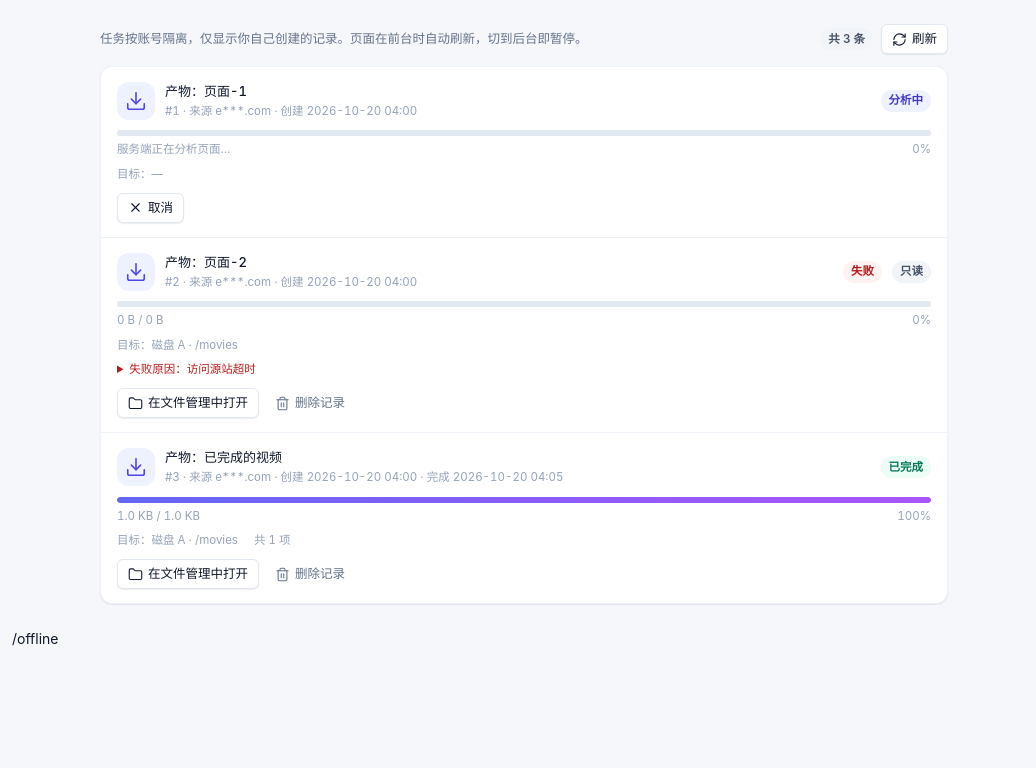
Test: 任务中心：只读与可操作判定 › 成功任务可「在文件管理中打开」，路径映射到磁盘路由 + 目录查询参数
Expected: the text "产物：已完成的视频" is shown, x1=165 y1=449 x2=282 y2=465
Click the button "在文件管理中打开" below "失败原因：" at (188, 403), box x1=117 y1=388 x2=259 y2=418
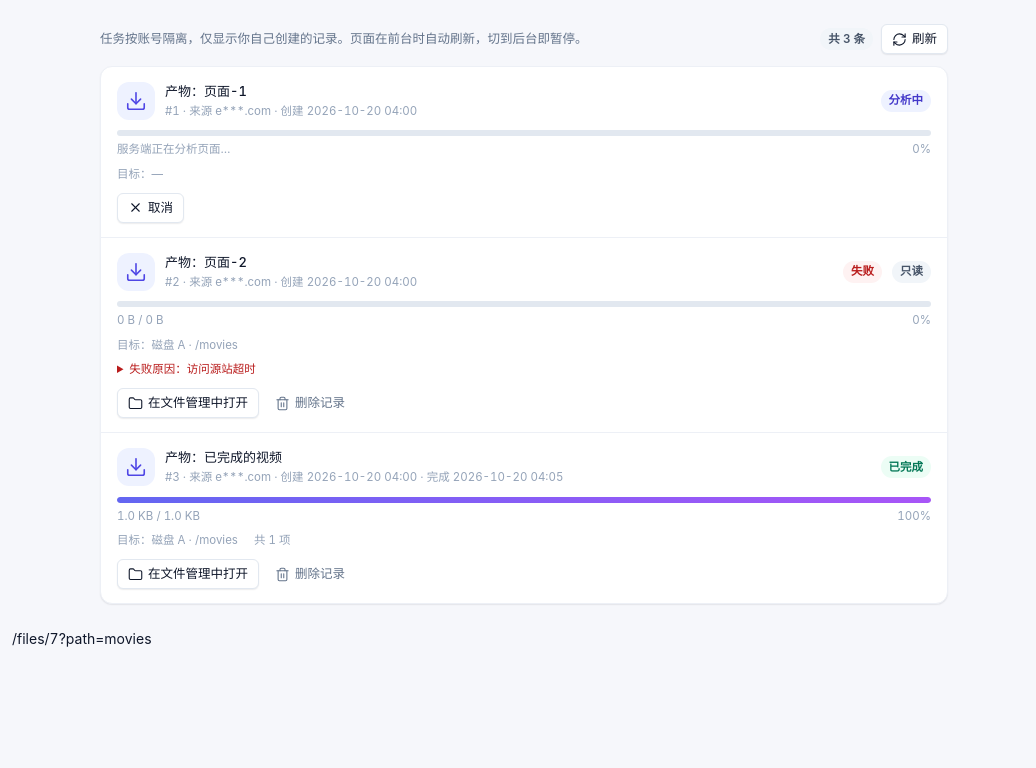
Expected: the text with test id "loc" reads "/files/7?path=movies", x1=12 y1=630 x2=152 y2=647
